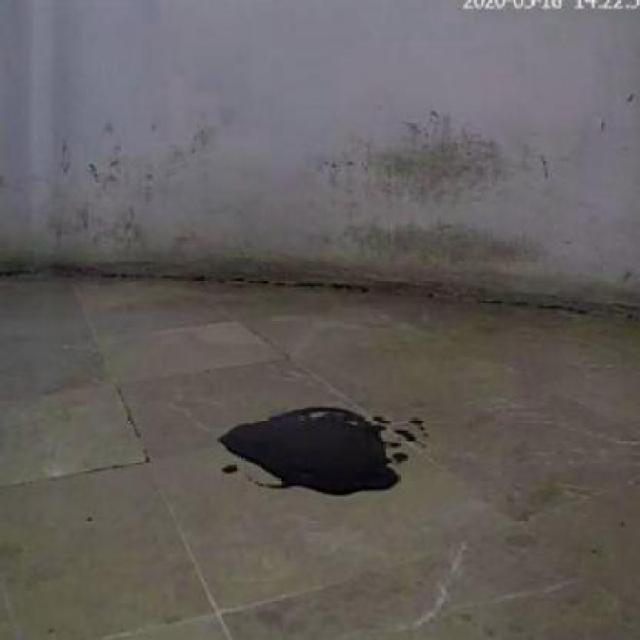spillage: (217, 407, 400, 496)
